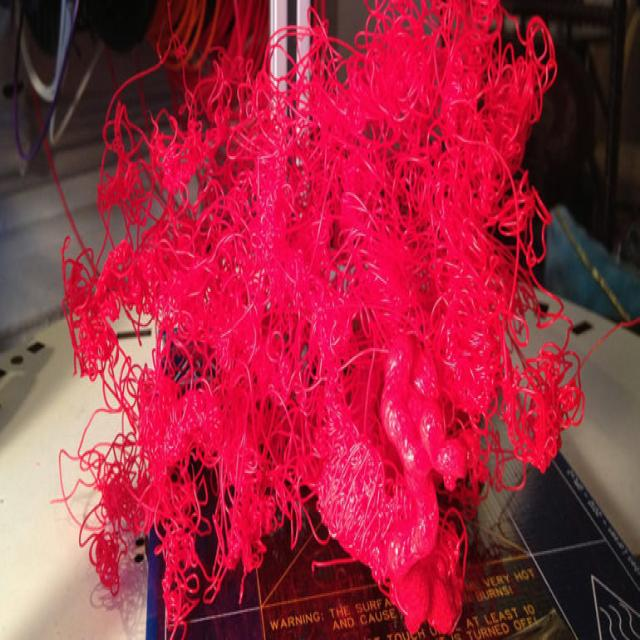Spaghetti: (57, 5, 587, 628)
